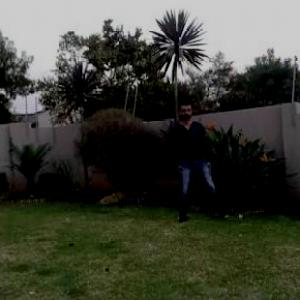follow: (170, 96, 206, 219)
